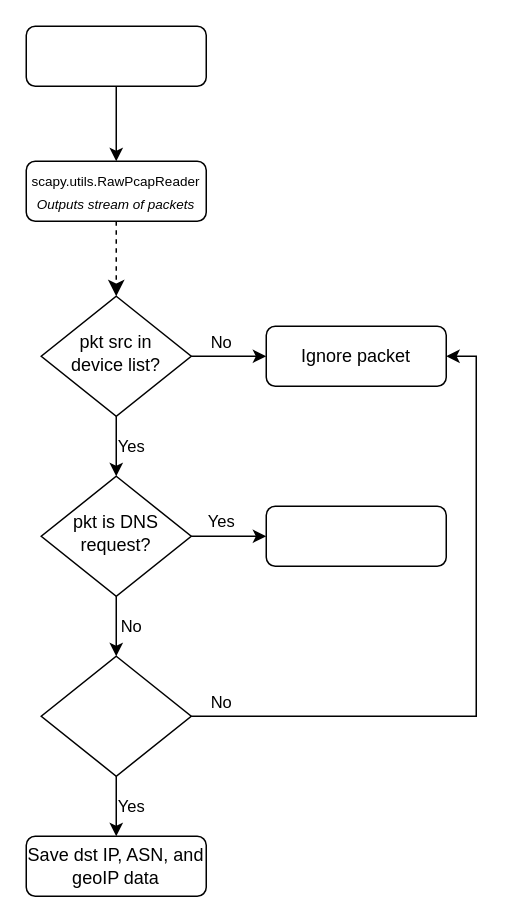
Some shapes in this 515 by 923 pixel diagram are drawn without their labels. Each missing label, with the box of its shape:
PCAP File: (25, 25, 206, 86)
pkt dst IP is globally routable?: (40, 655, 191, 776)
Save request URL: (265, 505, 446, 566)
